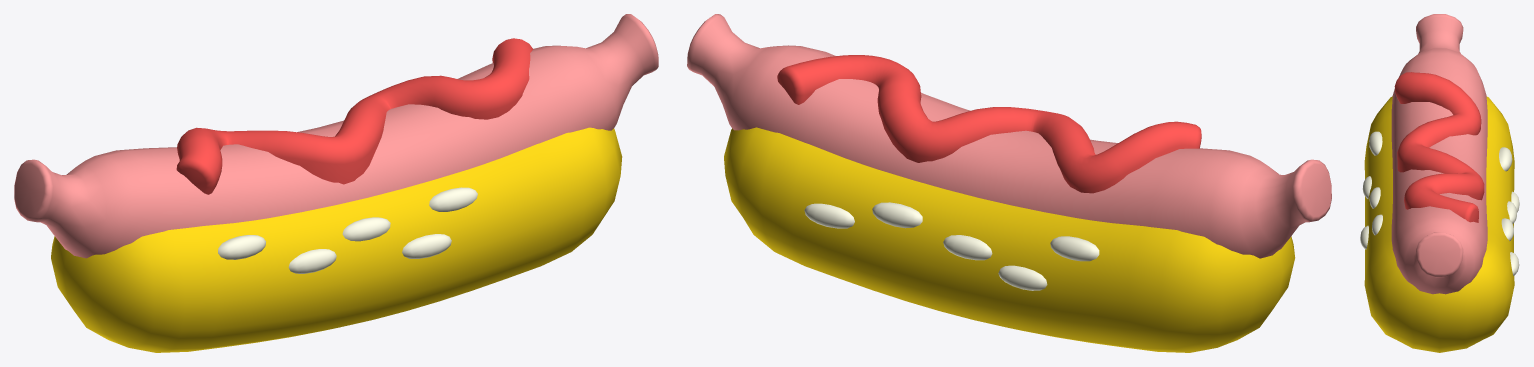
The model's file is Store_12_Hot_Dog_3.glb.
3 renders of one model, left to right at view 1: azimuth 30°, elevation 25°; view 2: azimuth 150°, elevation 25°; view 3: azimuth 270°, elevation 25°, orthographic. The views are drawn at different scales.
Visible parts, largest first — view 1: Store_12_Hot_Dog_3; view 2: Store_12_Hot_Dog_3; view 3: Store_12_Hot_Dog_3.
Part boxes in pixels (bbox=[...]): Store_12_Hot_Dog_3: bbox=[14, 14, 658, 352]; Store_12_Hot_Dog_3: bbox=[687, 14, 1331, 352]; Store_12_Hot_Dog_3: bbox=[1360, 14, 1519, 352].
Size of the model in its own units: 0.7034 by 0.2409 by 0.2067.
Materials: 1 (1 with a texture image).
